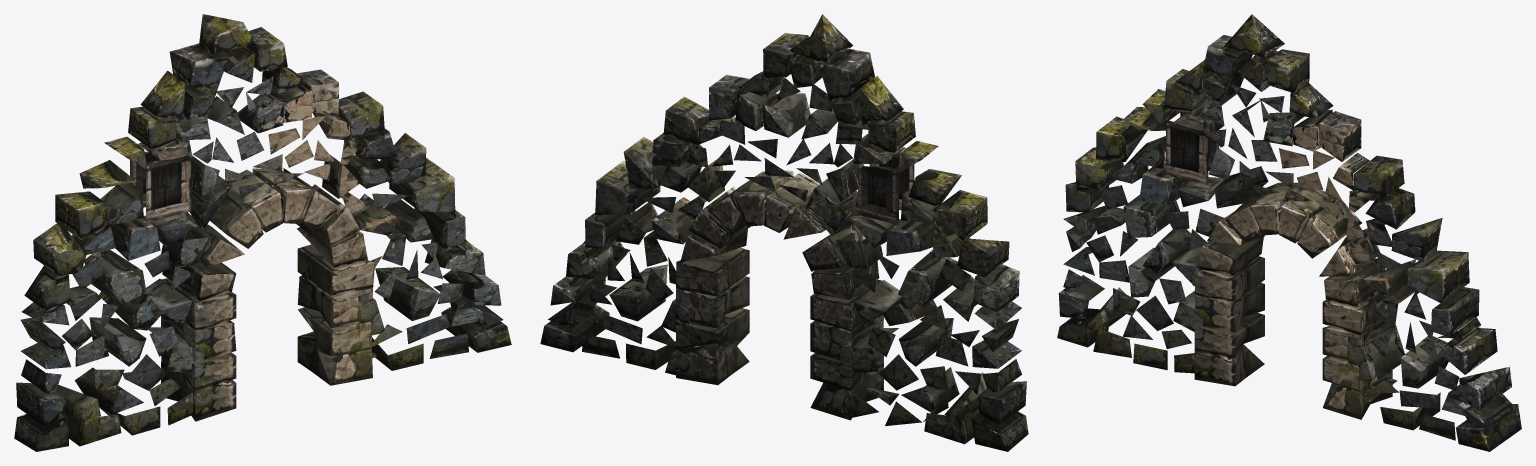
The model's file is act1_kit_v1_gable_wall.glb.
3 views of the same model, side by side, from view 1: azimuth 30°, elevation 25°; view 2: azimuth 150°, elevation 25°; view 3: azimuth 330°, elevation 25° (orthographic). The views are drawn at different scales.
Visible parts, largest first — view 1: A07_3_gable_wall; view 2: A07_3_gable_wall; view 3: A07_3_gable_wall.
Part boxes in pixels (box(x1,y1,x2,y2)): A07_3_gable_wall: box(14, 14, 511, 451); A07_3_gable_wall: box(540, 14, 1028, 451); A07_3_gable_wall: box(1057, 14, 1521, 451).
Bounding box in the file's own units: 0.9844 × 0.7617 × 0.145.
1 material, 1 textured.
